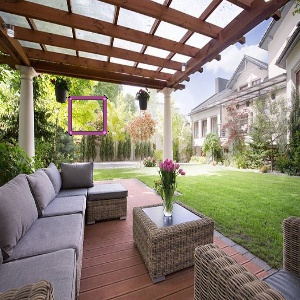square: (63, 92, 112, 139)
